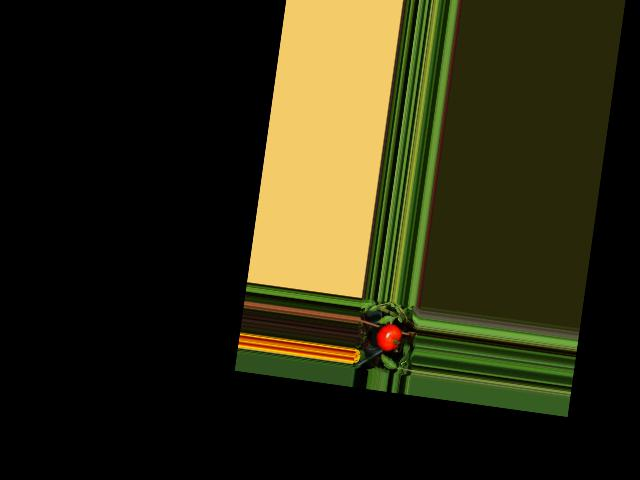tomato: (374, 321, 403, 353)
